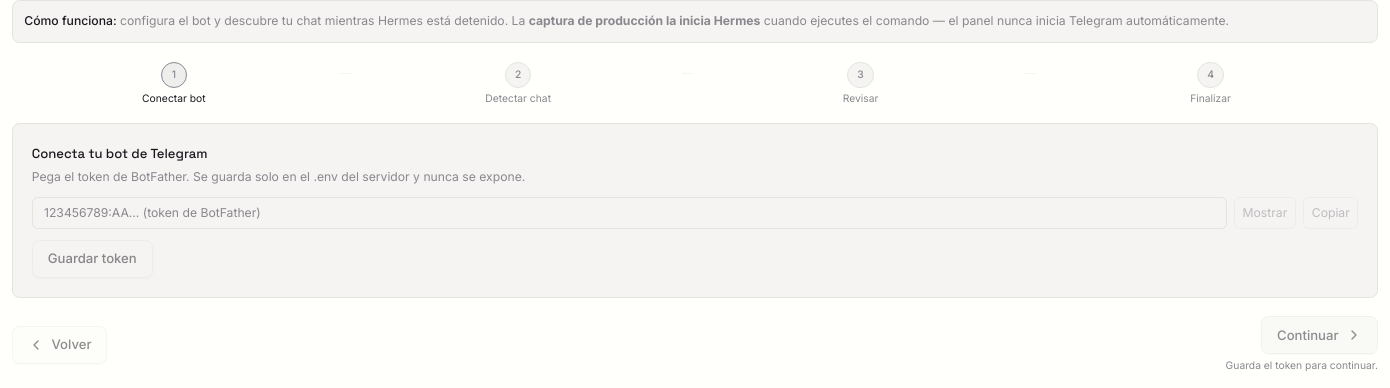
Scenario: IdeaCapturePanel — Conectar bot (token) › copies only the value being typed, never a stored value
Type "987:BB" into the password field named "Token del bot". click: coordinates (629, 213)
box: [32,197,1227,229]
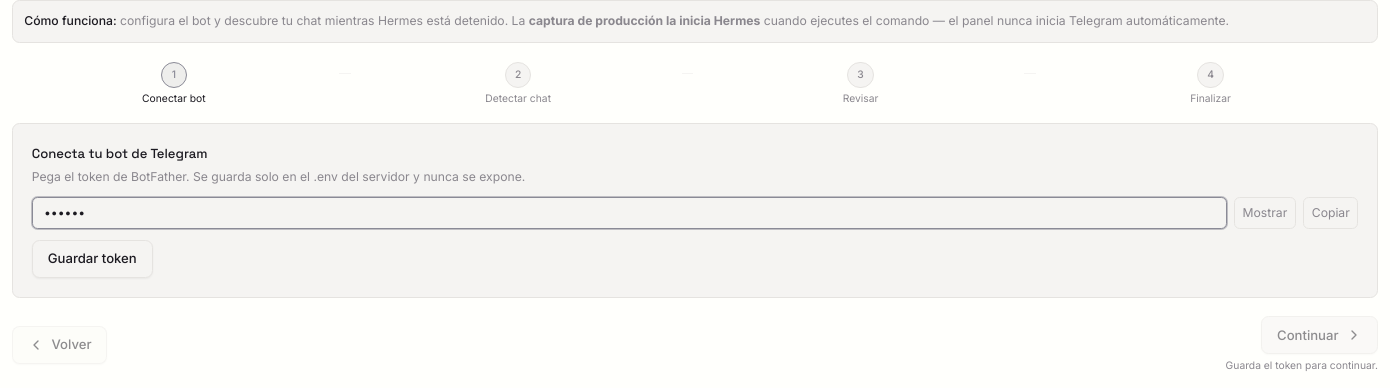
Click the button "Copiar". click: coordinates (1331, 213)
box: [1303,197,1358,229]
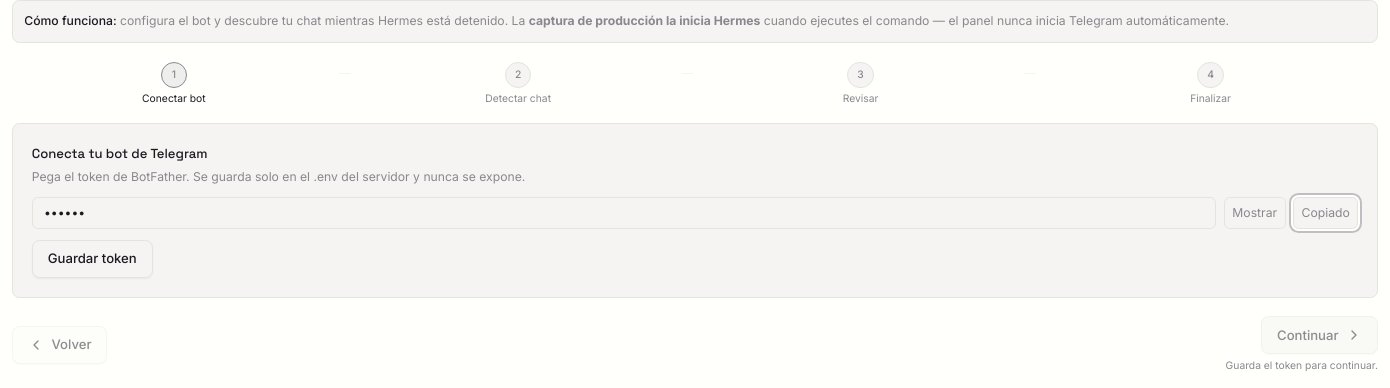
Expected: the button "Copiado" is shown, [1293,197,1358,229]
